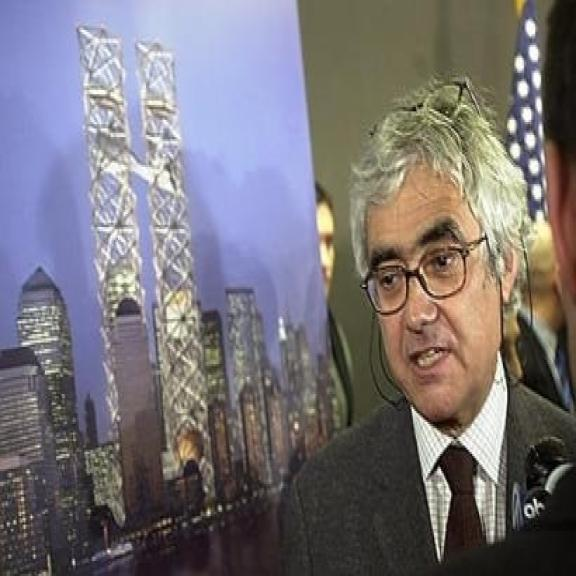face: (358, 156, 518, 422)
